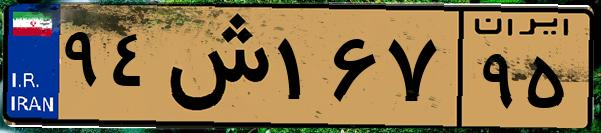1: (270, 28, 330, 110)
4: (110, 28, 158, 98)
5: (525, 38, 570, 115)
6: (330, 28, 385, 110)
7: (385, 28, 445, 110)
9: (57, 26, 110, 100), (475, 38, 525, 113)
ش: (158, 12, 270, 120)
